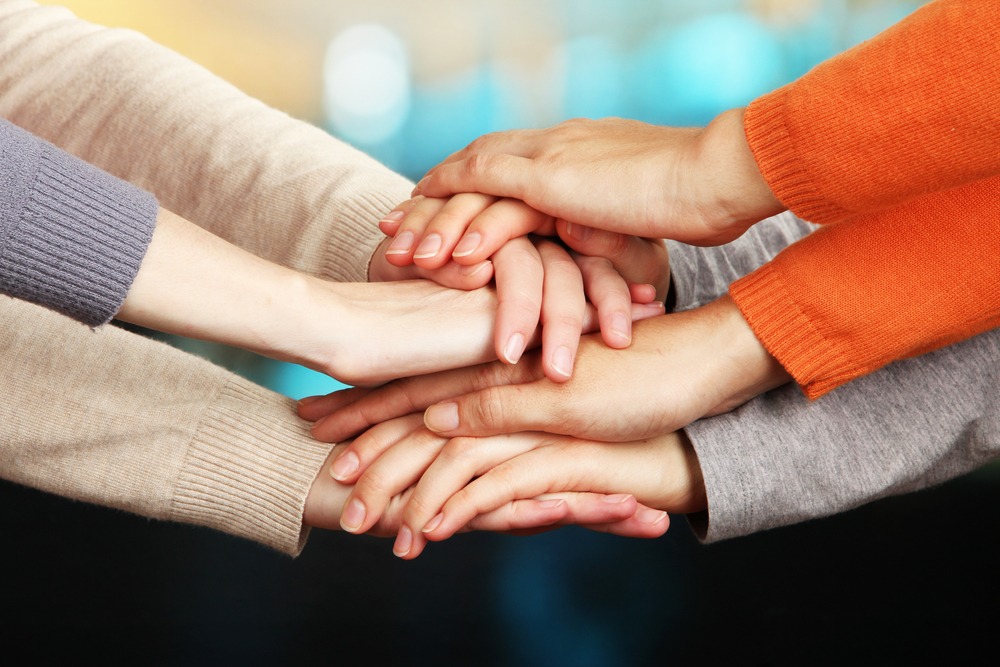finger: (308, 353, 522, 448), (419, 450, 557, 547), (391, 439, 485, 559), (335, 434, 444, 530), (486, 241, 542, 364), (328, 413, 418, 485), (546, 487, 667, 540), (538, 241, 581, 388), (412, 149, 528, 201), (416, 187, 482, 272), (449, 203, 534, 267), (581, 253, 630, 348), (385, 190, 443, 268), (516, 494, 640, 529), (434, 498, 573, 529), (297, 380, 375, 423), (374, 179, 425, 240)
